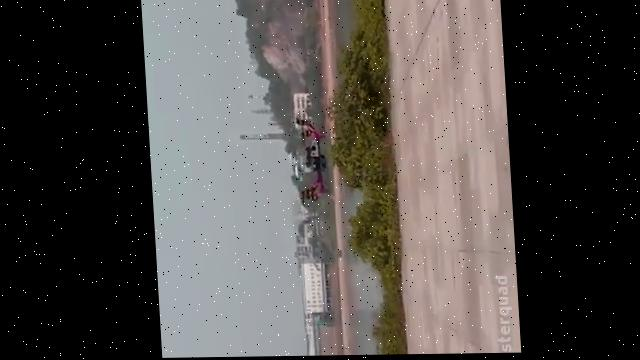drone: (282, 113, 327, 212)
